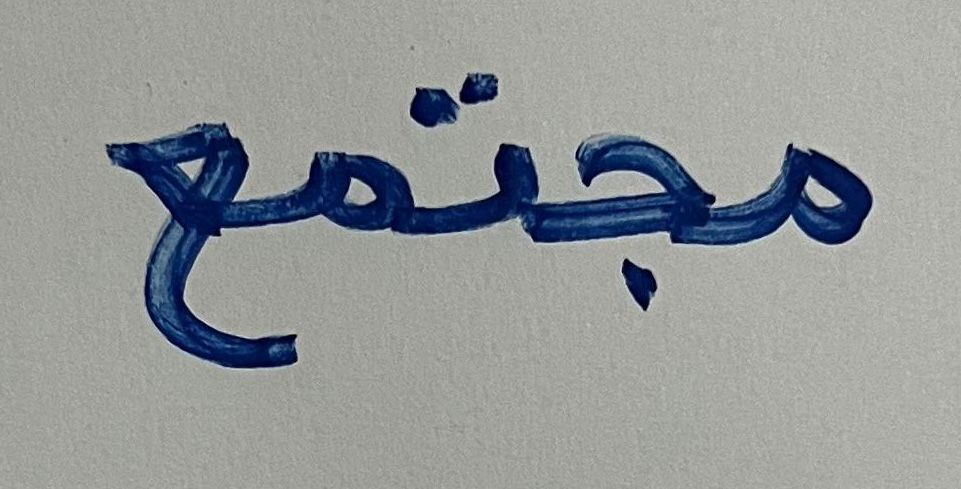ain: (81, 65, 272, 431)
jeem: (550, 94, 728, 346)
meem: (735, 127, 898, 315), (278, 91, 408, 291)
teh: (411, 38, 543, 286)
